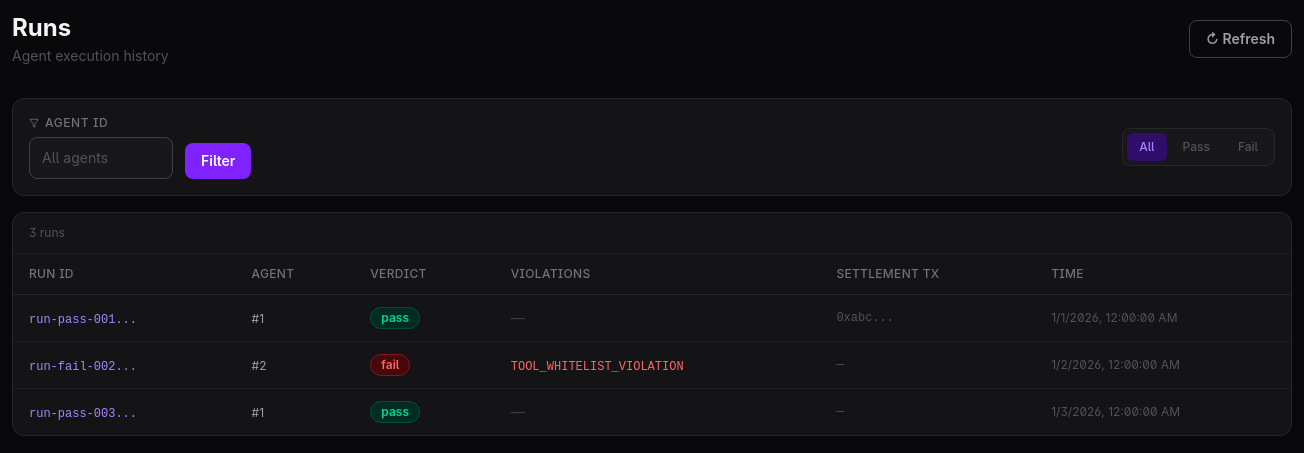
it: Runs — verdict filter › filters to fail runs only
Expected: the text "3 runs" is shown, [29,225,65,241]
Click the button "Fail": {"x": 1248, "y": 147} [1226,133,1270,161]
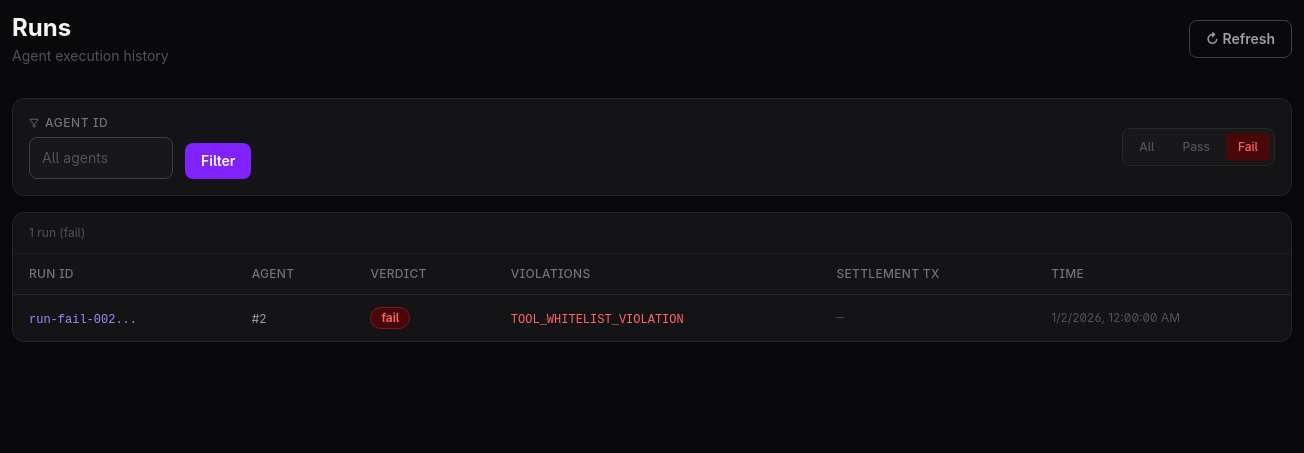
Expected: the text "fail" is shown, [370,307,410,329]
Result: the text "1 run (fail)" is shown at [29,225,85,241]
